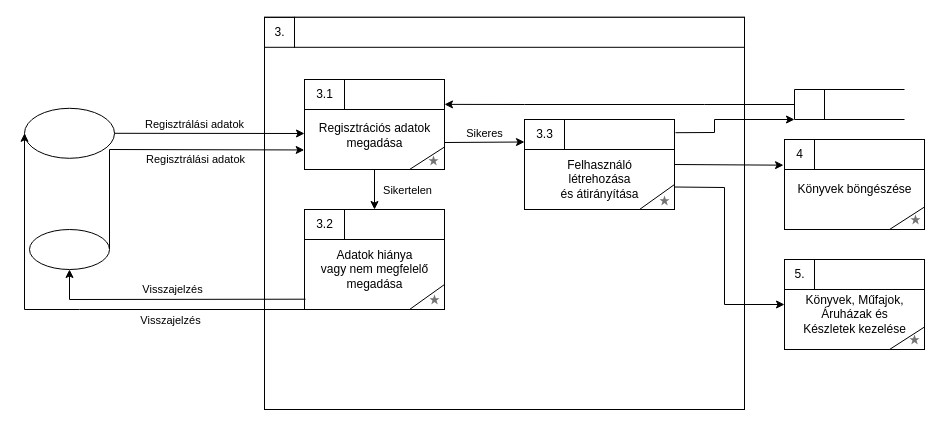
This 943x428 diagram has some shape labels left out. The shapes that lost their labels are listed below. From the top down, each one's box as (x1, y1, x2, y2) in pixels, then its label:
(794, 88, 904, 120): L2 Felhasználók
(24, 107, 114, 158): Látogató
(28, 228, 110, 270): Admin
